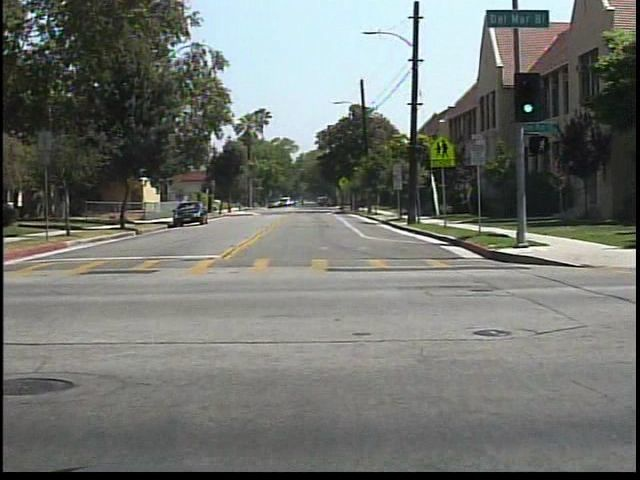person: (296, 193, 310, 210)
